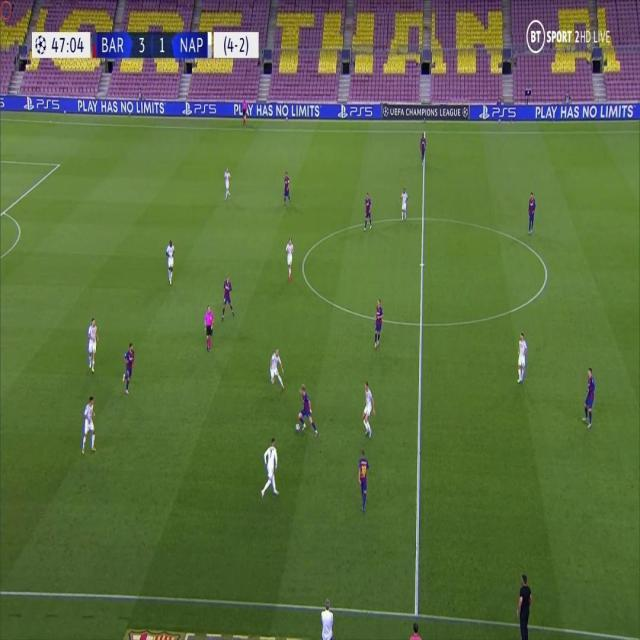ball: (295, 422, 300, 434)
player: (293, 382, 318, 438), (260, 436, 280, 500), (81, 394, 98, 457), (581, 363, 597, 429), (359, 379, 376, 440), (356, 446, 371, 511), (220, 272, 236, 323), (121, 339, 135, 396), (86, 314, 99, 373), (270, 346, 286, 392), (516, 328, 529, 384), (372, 295, 385, 350), (164, 236, 176, 285), (284, 234, 295, 280), (527, 189, 537, 234), (398, 184, 409, 223), (363, 189, 373, 231), (222, 164, 232, 201), (282, 169, 292, 206), (419, 125, 428, 165)
referee: (203, 303, 215, 352), (241, 94, 250, 128)
